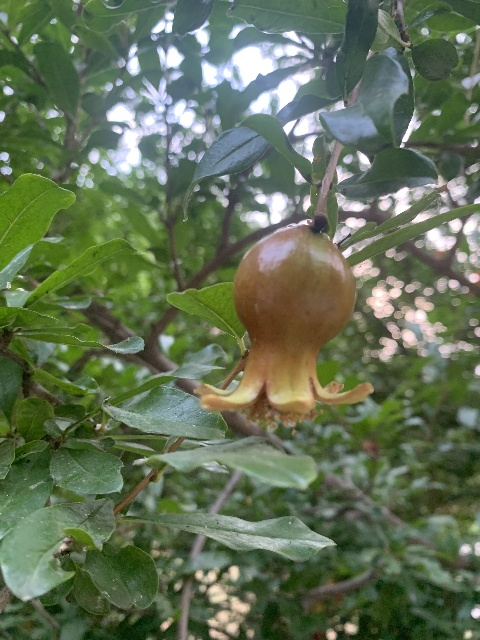early-fruit: (183, 224, 376, 430)
